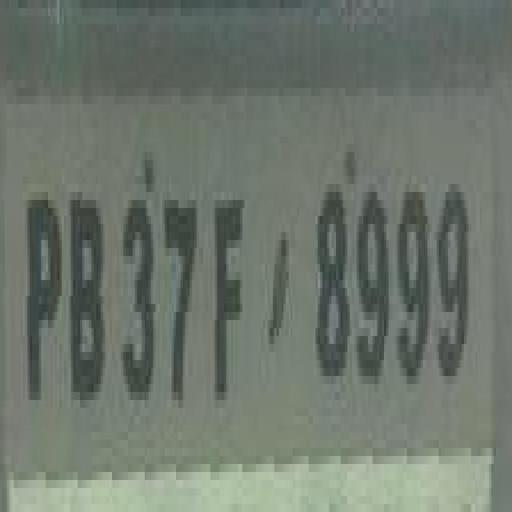number plate: (13, 80, 512, 472)
